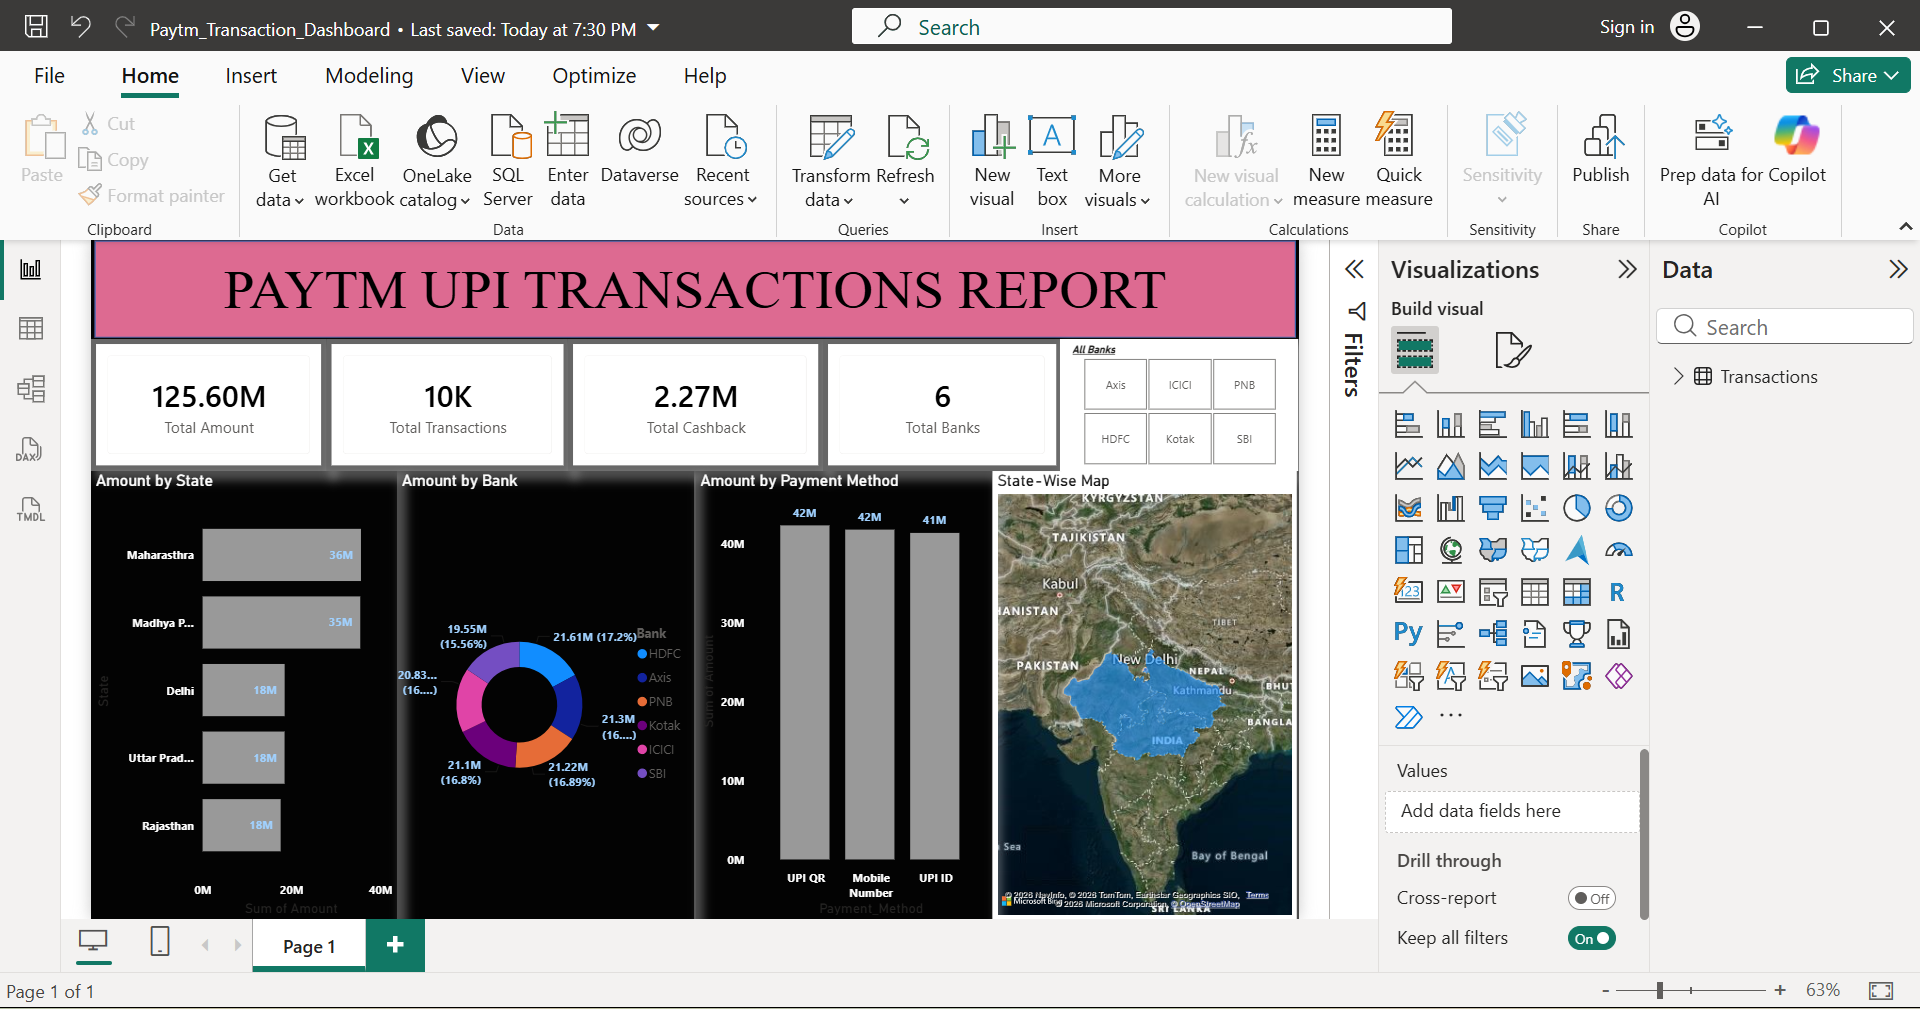

Layout of this report page (visuals, bound fields, positions):
{"tool":"powerbi","page":{"name":"Page 1","canvas":[1280,720],"ordinal":0},"visuals":[{"type":"filledMap","title":"State-Wise Map","fields":{"Category":["Transactions.State"]},"box":[956,245,322.9,475.6],"z":0},{"type":"cardVisual","fields":{"Data":["Sum(Transactions.Amount)"]},"box":[0,105,249.7,140],"z":1000},{"type":"cardVisual","fields":{"Data":["CountNonNull(Transactions.Transaction_ID)"]},"box":[249.7,105,256.1,140],"z":2000},{"type":"cardVisual","fields":{"Data":["Sum(Transactions.Cashback)"]},"box":[505.8,105,270.4,140],"z":3000},{"type":"barChart","title":"Amount by State","fields":{"Category":["Transactions.State"],"Y":["Sum(Transactions.Amount)"]},"box":[0,245,324.5,475.6],"z":4000},{"type":"actionButton","box":[0,0,100,40],"z":5000},{"type":"donutChart","title":"Amount by Bank","fields":{"Y":["Sum(Transactions.Amount)"],"Category":["Transactions.Bank"]},"box":[324.5,245,314.9,475.6],"z":6000},{"type":"columnChart","title":"Amount by Payment Method","fields":{"Y":["Sum(Transactions.Amount)"],"Category":["Transactions.Payment_Method"]},"box":[641,245,314.9,475.6],"z":7000},{"type":"cardVisual","fields":{"Data":["Count(Transactions.Bank)"]},"box":[776.2,105,252.9,140],"z":8000},{"type":"shape","box":[3.2,0,1275.7,105],"z":10000},{"type":"slicer","fields":{"Values":["Transactions.Bank"]},"box":[1027.5,105,252.9,140],"z":10001}]}

Visuals, with their boxes on the page's 1280x720 design canvas (x1, y1, x2, y2). These are canvas units, not pixel positions in the 1920x1009 screenshot, which may show the page scaled, cropped or inside an application window:
"State-Wise Map" filledMap: 956 245 1279 721
cardVisual - Sum(Transactions.Amount): 0 105 250 245
cardVisual - CountNonNull(Transactions.Transaction_ID): 250 105 506 245
cardVisual - Sum(Transactions.Cashback): 506 105 776 245
"Amount by State" barChart: 0 245 324 721
actionButton: 0 0 100 40
"Amount by Bank" donutChart: 324 245 639 721
"Amount by Payment Method" columnChart: 641 245 956 721
cardVisual - Count(Transactions.Bank): 776 105 1029 245
shape: 3 0 1279 105
slicer - Transactions.Bank: 1028 105 1280 245
